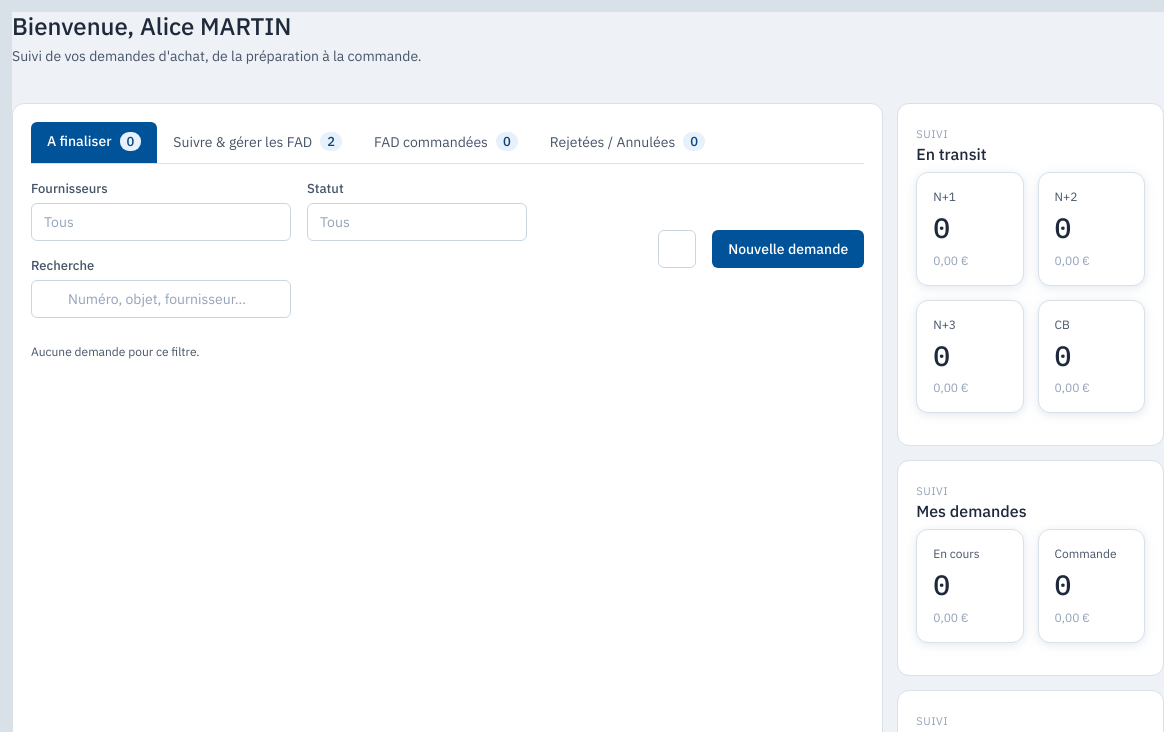
Test: Home — onglets › affiche le badge "Seuil DS" sur une FAD validée par exemption de seuil, pas sur les autres
This screenshot has width=1164, height=732.
Click the tab "Suivre & gérer les FAD 2" at (258, 143), box [157,122,358,164]
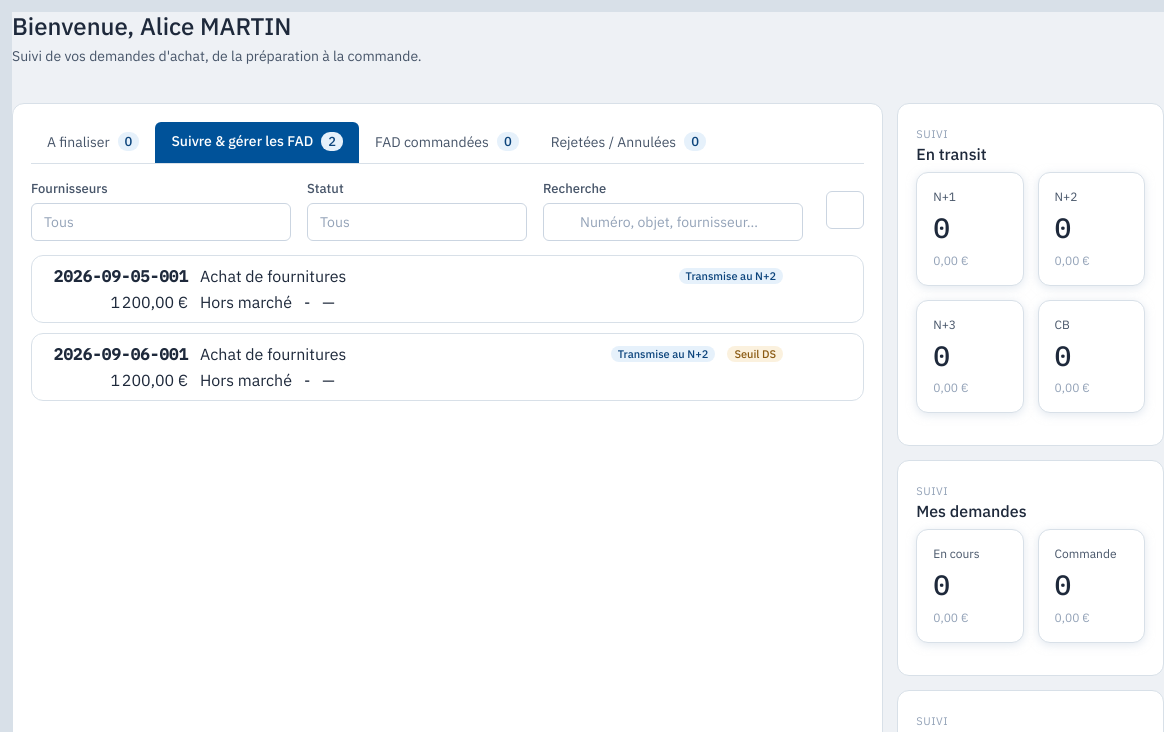
Now the text "Seuil DS" is shown, box [727,346,783,362]
